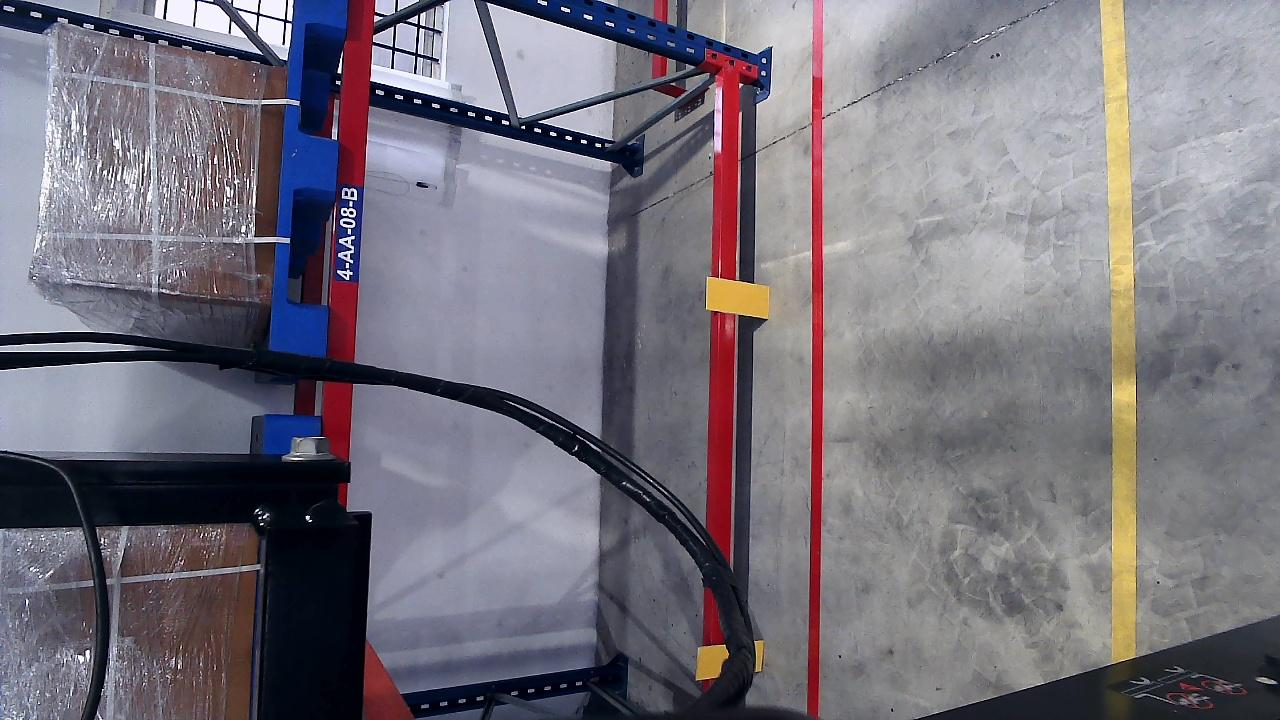h_rack: (324, 0, 380, 449), (711, 73, 746, 698)
orange_strip: (705, 277, 768, 318), (695, 643, 728, 679)
red_line: (803, 4, 828, 717)
small_pallet: (268, 0, 351, 355)
yellow_line: (1092, 3, 1135, 662)
